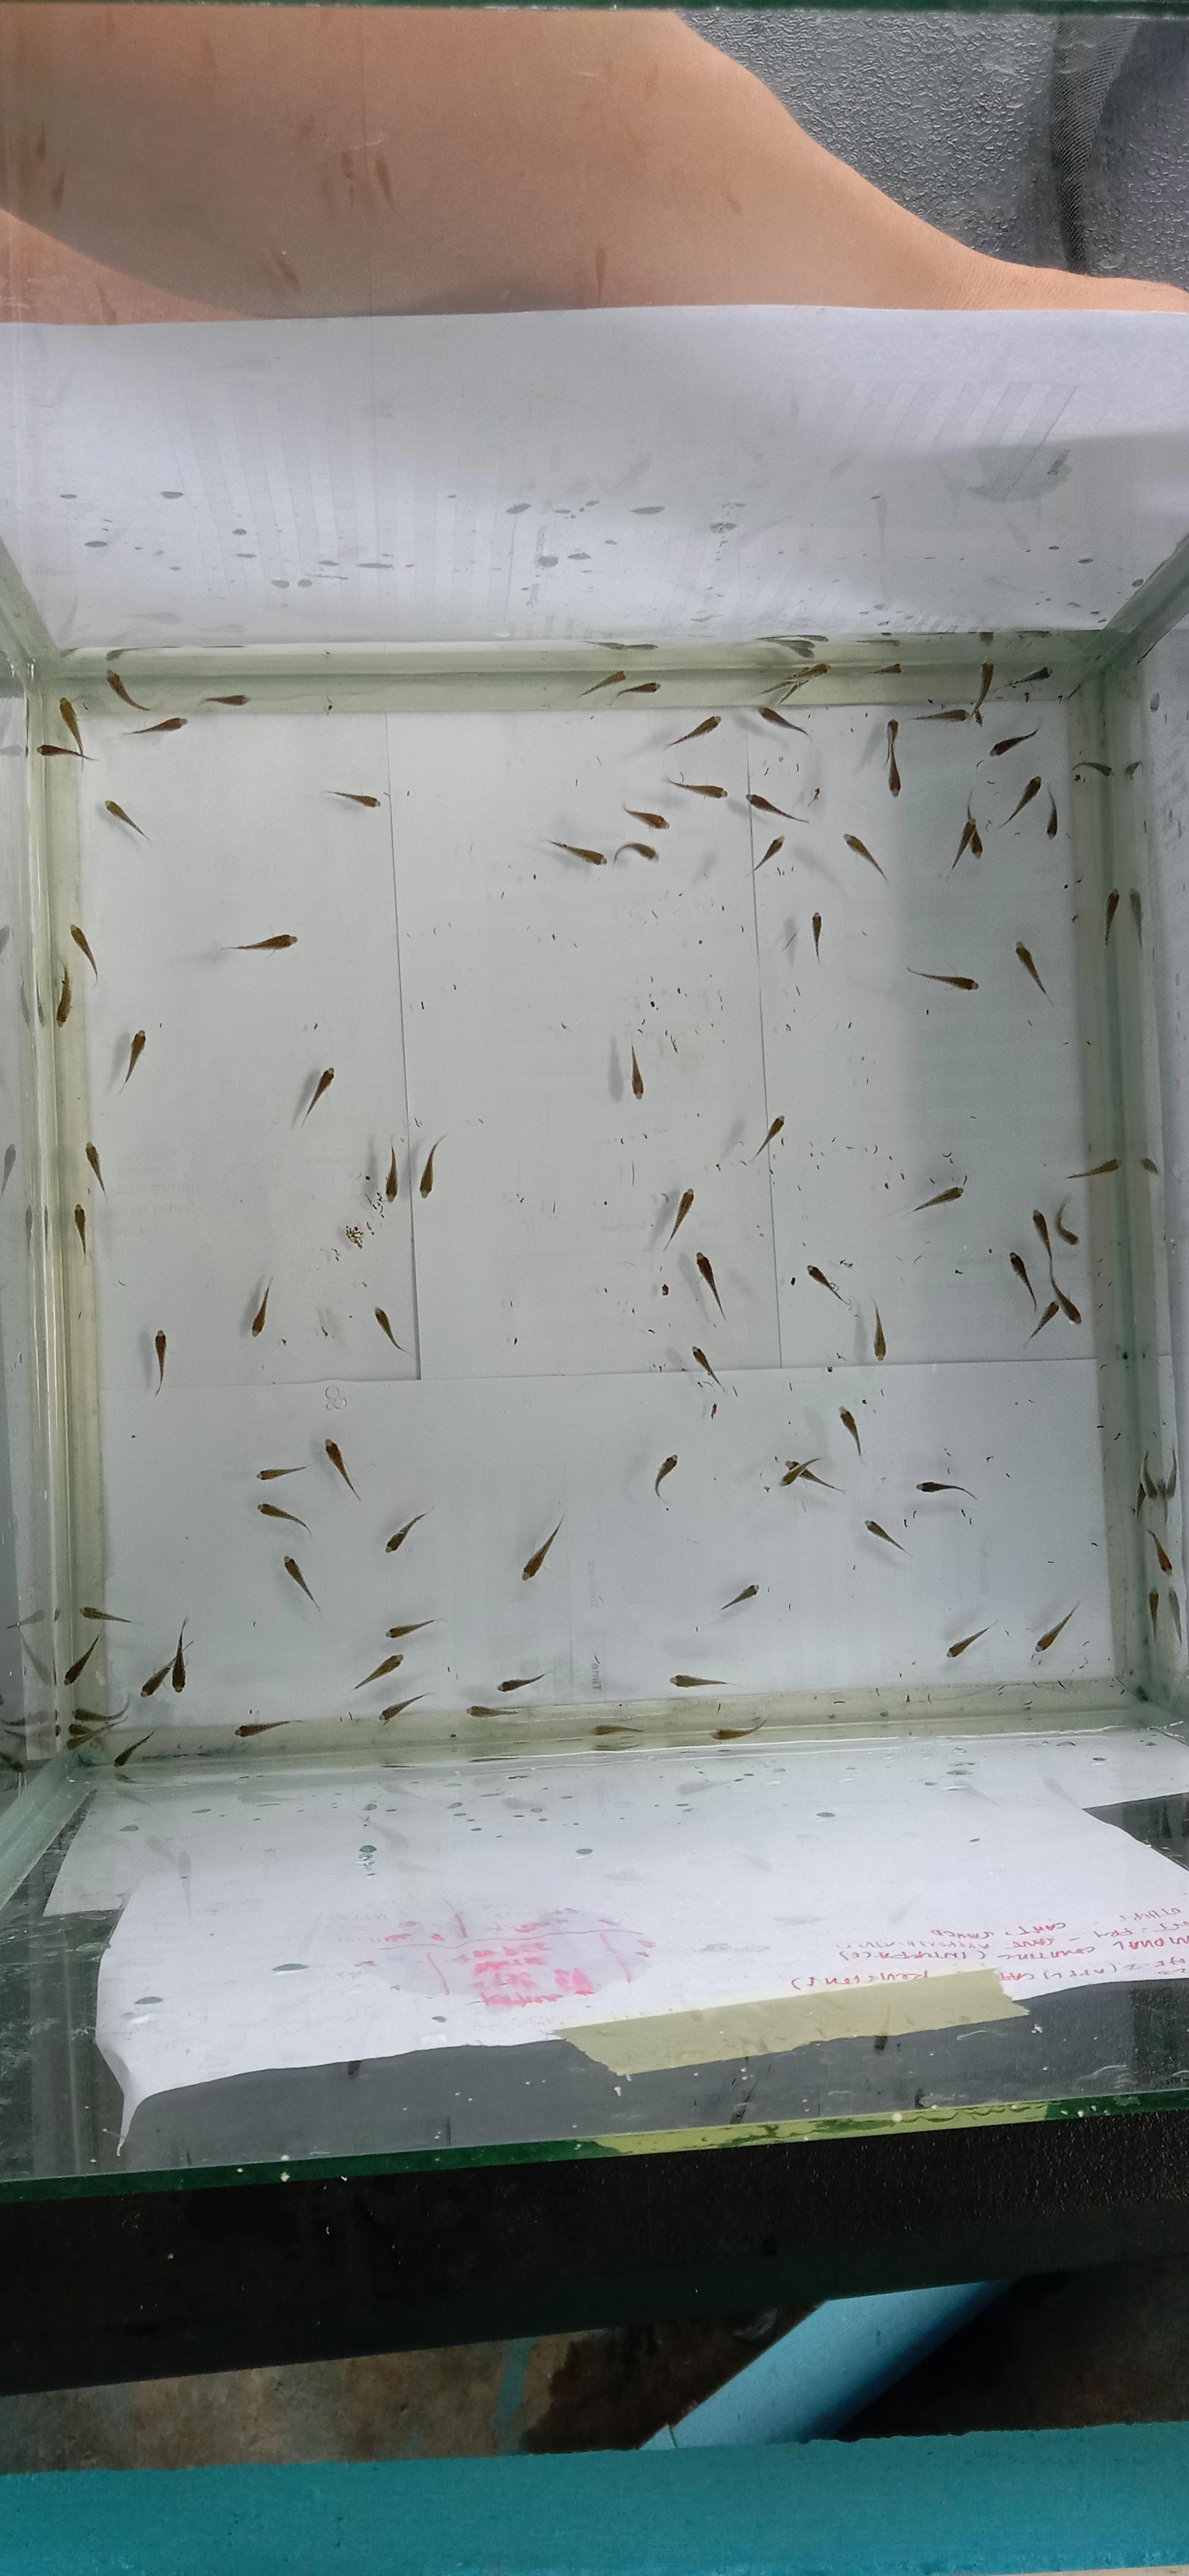fish: (759, 660, 828, 701), (949, 790, 984, 871), (521, 1518, 562, 1580), (1033, 1602, 1079, 1656), (995, 775, 1041, 828), (693, 1252, 726, 1321), (842, 831, 887, 882), (690, 1345, 734, 1396), (325, 1439, 361, 1502), (297, 1068, 335, 1127), (660, 1188, 695, 1252), (282, 1556, 320, 1612), (1013, 940, 1049, 997), (62, 1635, 102, 1687), (806, 1263, 851, 1309), (746, 1114, 785, 1165), (384, 1510, 429, 1554), (103, 798, 148, 843), (746, 792, 808, 823), (417, 1134, 447, 1198), (107, 669, 151, 711), (256, 1502, 310, 1536), (353, 1653, 402, 1690), (57, 697, 87, 757), (667, 715, 721, 747), (907, 966, 979, 991), (69, 923, 99, 982), (379, 1692, 430, 1725), (759, 705, 810, 738), (547, 838, 606, 866), (1008, 1250, 1036, 1309), (113, 1732, 154, 1771), (373, 1306, 406, 1354), (911, 1184, 964, 1214), (711, 1715, 765, 1743), (972, 659, 995, 724), (864, 1520, 907, 1554), (946, 1626, 990, 1659), (122, 1028, 146, 1088), (169, 1620, 189, 1694), (1132, 1457, 1156, 1515), (990, 728, 1038, 757), (1026, 1299, 1059, 1342), (665, 775, 726, 798), (608, 680, 660, 706), (578, 669, 624, 698), (1146, 1529, 1174, 1577), (386, 1618, 443, 1641), (250, 1280, 273, 1337), (1051, 1280, 1081, 1324), (801, 1465, 846, 1495), (1066, 1157, 1118, 1181), (232, 931, 297, 951), (778, 1457, 819, 1488), (916, 1480, 976, 1502), (652, 1454, 678, 1502), (72, 1704, 126, 1727), (885, 720, 902, 795), (838, 1408, 862, 1457), (140, 1661, 172, 1697), (1054, 1196, 1079, 1244), (66, 1728, 110, 1755), (668, 1672, 732, 1690), (130, 715, 187, 734), (611, 841, 657, 866), (496, 1672, 545, 1695), (622, 805, 667, 830), (56, 961, 72, 1027), (754, 836, 785, 871), (325, 789, 379, 808), (721, 1584, 759, 1612), (82, 1605, 131, 1626), (84, 1143, 105, 1193), (153, 1331, 169, 1395), (235, 1720, 292, 1738), (911, 706, 967, 724), (870, 1299, 887, 1359), (383, 1143, 399, 1203), (256, 1464, 307, 1482), (38, 743, 89, 761), (591, 1725, 642, 1743), (629, 1046, 645, 1099), (1031, 1209, 1051, 1252), (72, 1206, 89, 1257), (1104, 889, 1118, 945), (199, 692, 248, 708), (1071, 759, 1112, 779), (1145, 1589, 1159, 1643), (966, 816, 984, 858), (169, 1653, 187, 1692), (466, 1705, 517, 1718), (1044, 790, 1058, 838), (1132, 1480, 1150, 1515), (810, 912, 823, 958), (887, 756, 902, 793), (874, 660, 903, 674)
